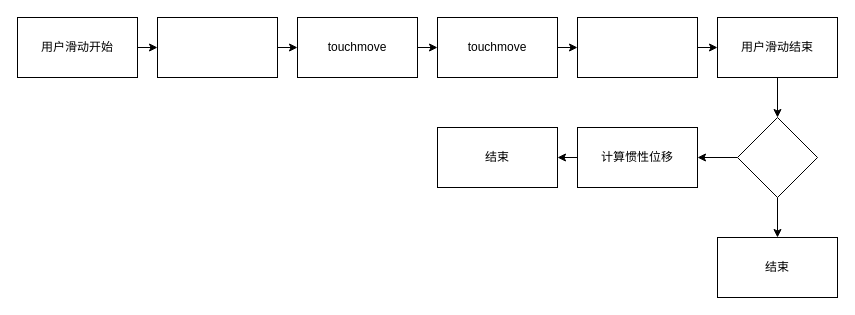
The diagram is 855 pixels wide and 315 high, and some of its shapes have lost their labels. The shapes that lost their labels are listed below. From the top down, each one's box as (x1, y1, x2, y2) in pixels, then its label:
(156, 16, 278, 78): touchstart
(576, 16, 698, 78): touchend
(736, 116, 818, 198): 是否为 flick ？
